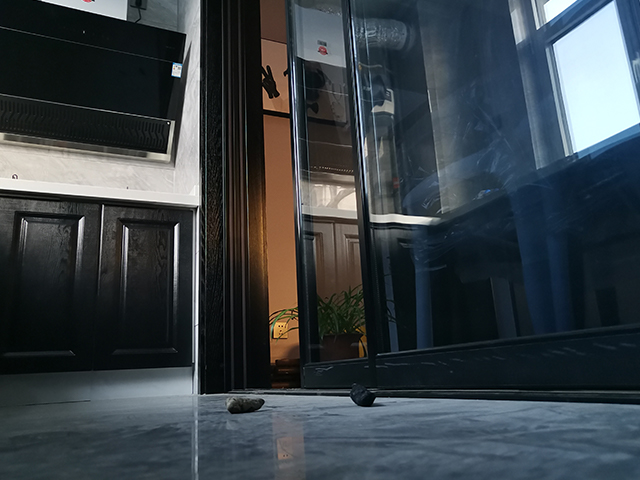cabinet: (1, 178, 203, 412), (302, 211, 385, 364)
feces: (224, 395, 266, 415), (347, 382, 378, 409)
